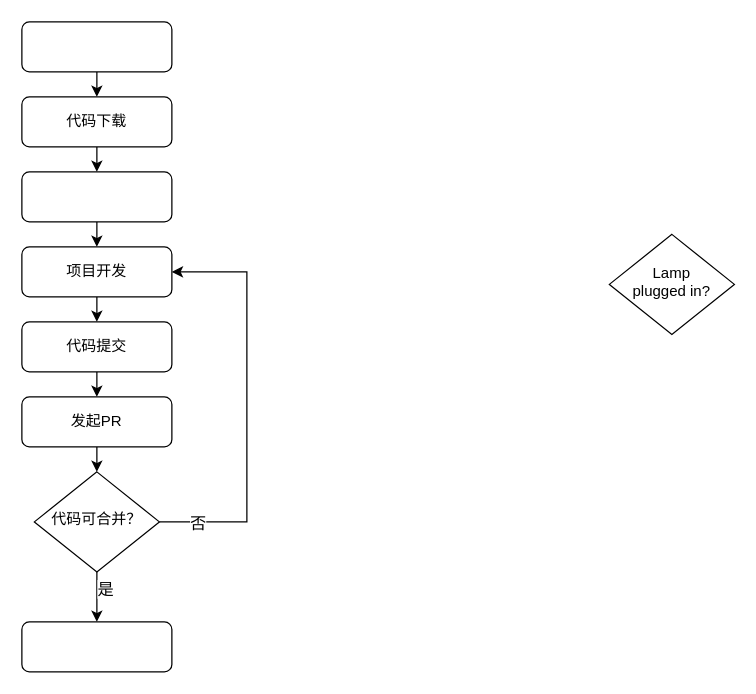
This 756x694 diagram has some shape labels left out. Each missing label, with the box of its shape:
加入社区 申领ISSUE: (21, 21, 172, 72)
完成ISSUE: (21, 621, 172, 672)
环境搭建: (21, 171, 172, 222)
